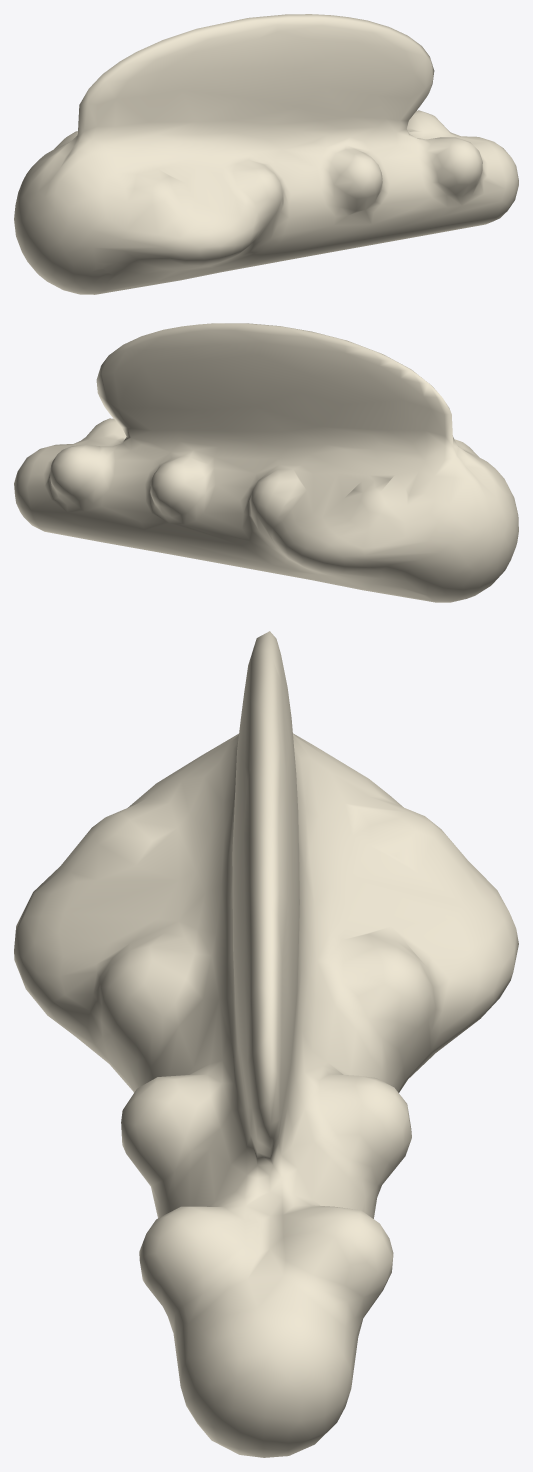
The model's file is sacrum.glb.
3 renders of one model, top to bottom at view 1: azimuth 30°, elevation 25°; view 2: azimuth 150°, elevation 25°; view 3: azimuth 270°, elevation 25°, orthographic. The views are drawn at different scales.
Parts seen in each view (by area): view 1: geometry_0; view 2: geometry_0; view 3: geometry_0.
Boxes of the visible parts, bbox=[...] form: geometry_0: bbox=[14, 14, 518, 294]; geometry_0: bbox=[14, 323, 518, 602]; geometry_0: bbox=[14, 631, 518, 1457].
Size of the model in its own units: 0.4601 by 0.2336 by 0.21.
